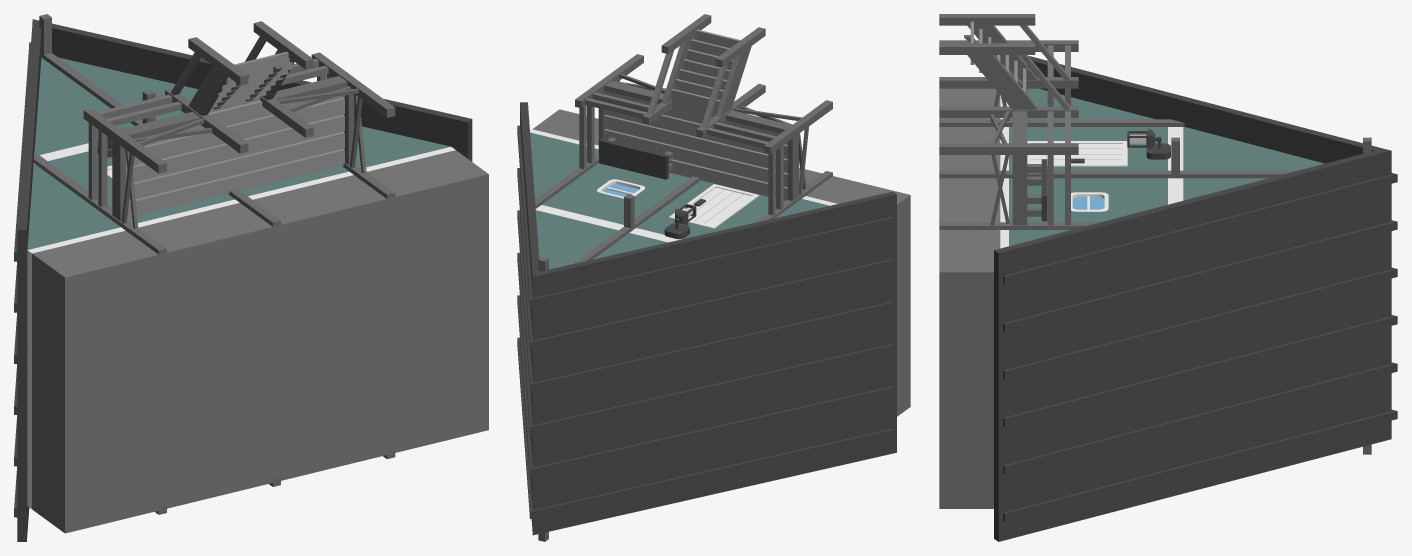
The model's file is A-Frame Cabin.fbx.
3 renders of one model, left to right at view 1: azimuth 30°, elevation 25°; view 2: azimuth 150°, elevation 25°; view 3: azimuth 270°, elevation 25°, orthographic. The views are drawn at different scales.
Parts seen in each view (by area): view 1: A Frame Cabin; view 2: A Frame Cabin, Cabin Door; view 3: A Frame Cabin, Cabin Door.
Boxes of the visible parts, x1,y1,x2,y2 form: A Frame Cabin: (14,14,488,541); A Frame Cabin: (517,14,910,541); Cabin Door: (688,187,751,225); A Frame Cabin: (939,14,1397,541); Cabin Door: (1031,144,1122,163).
Bounding box in the file's own units: 2790 × 2676 × 2633.
